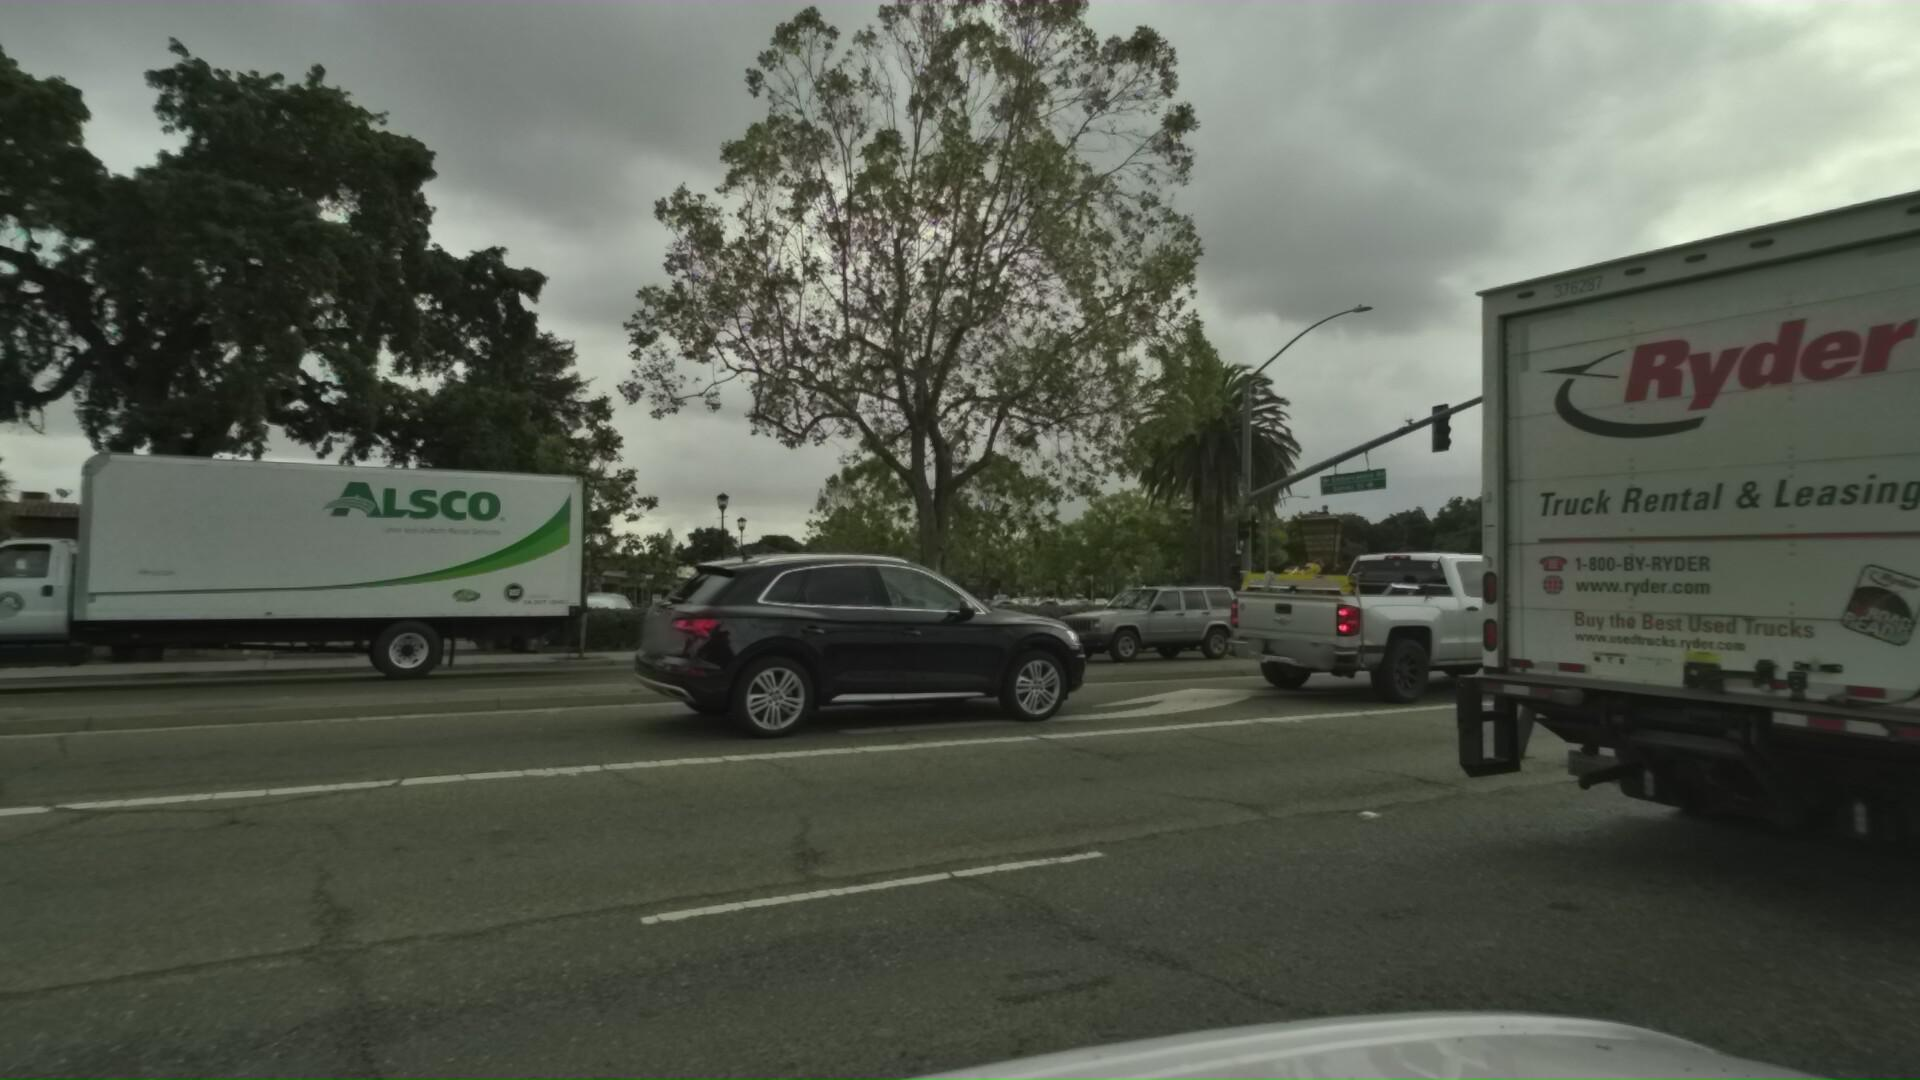car: (560, 535, 1092, 752), (1188, 535, 1613, 709), (1005, 578, 1212, 667), (534, 585, 626, 647)
truck: (1455, 119, 1920, 982), (0, 409, 564, 711)
